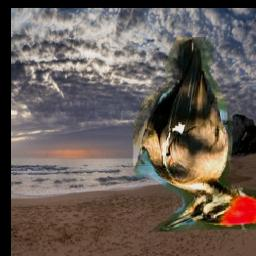Woodpecker: (128, 38, 256, 233)
